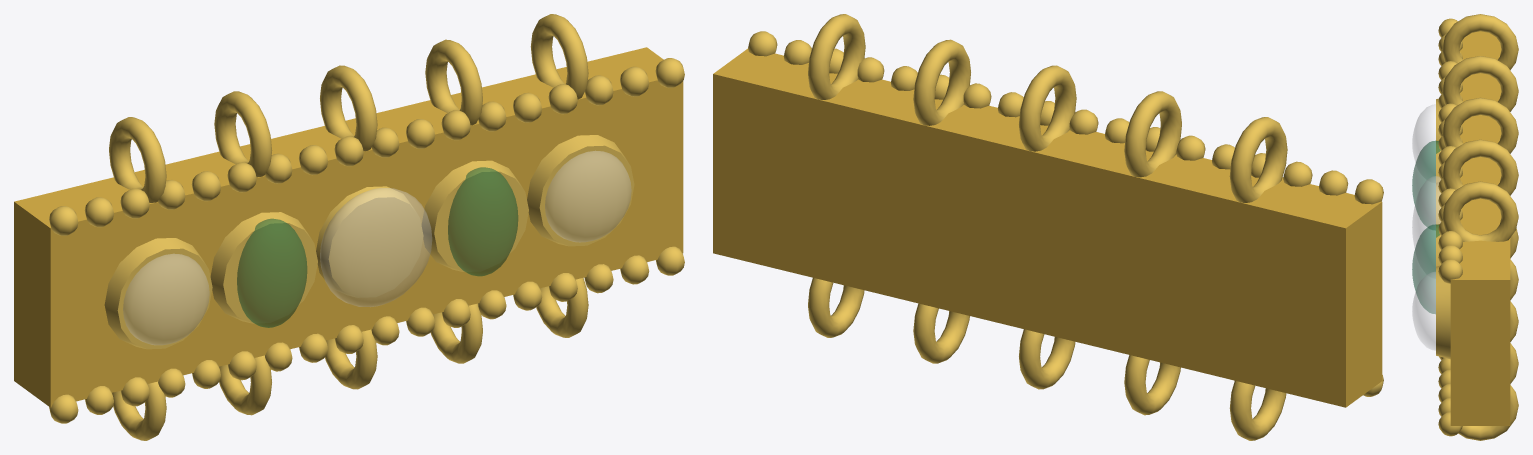
The model's file is kundan-5loop-connector.glb.
3 renders of one model, left to right at view 1: azimuth 30°, elevation 25°; view 2: azimuth 150°, elevation 25°; view 3: azimuth 270°, elevation 25°, orthographic. The views are drawn at different scales.
Parts seen in each view (by area): view 1: Connector_Chassis, KundanConnectorBar_5Loop, Polki_Center, Polki_Right_Outer, Polki_Left_Outer, Emerald_Left, Emerald_Right, Physical_Loop_Top_1, Physical_Loop_Top_2, Physical_Loop_Top_3, Physical_Loop_Top_4, Physical_Loop_Top_5 (+5 smaller); view 2: Connector_Chassis, KundanConnectorBar_5Loop, Physical_Loop_Top_1, Physical_Loop_Top_2, Physical_Loop_Top_3, Physical_Loop_Top_4, Physical_Loop_Top_5, Physical_Loop_Btm_3, Physical_Loop_Btm_2, Physical_Loop_Btm_1, Physical_Loop_Btm_4, Physical_Loop_Btm_5; view 3: Connector_Chassis, KundanConnectorBar_5Loop, Physical_Loop_Top_5, Physical_Loop_Top_4, Physical_Loop_Top_3, Physical_Loop_Top_2, Physical_Loop_Top_1, Polki_Center, Emerald_Right, Emerald_Left, Polki_Right_Outer, Polki_Left_Outer (+5 smaller).
Boxes of the visible parts, x1,y1,x2,y2 form: Connector_Chassis: (14, 47, 683, 407); KundanConnectorBar_5Loop: (49, 58, 684, 423); Polki_Center: (320, 188, 431, 306); Polki_Right_Outer: (545, 151, 631, 242); Polki_Left_Outer: (123, 254, 209, 344); Emerald_Left: (237, 218, 307, 327); Emerald_Right: (448, 167, 518, 276); Physical_Loop_Top_1: (109, 117, 166, 202); Physical_Loop_Top_2: (214, 91, 272, 177); Physical_Loop_Top_3: (320, 65, 377, 151); Physical_Loop_Top_4: (425, 39, 482, 125); Physical_Loop_Top_5: (530, 14, 588, 99); Connector_Chassis: (713, 48, 1382, 407); KundanConnectorBar_5Loop: (748, 31, 1383, 396); Physical_Loop_Top_1: (1229, 117, 1287, 202); Physical_Loop_Top_2: (1124, 91, 1181, 177); Physical_Loop_Top_3: (1019, 65, 1076, 151); Physical_Loop_Top_4: (913, 39, 970, 125); Physical_Loop_Top_5: (808, 14, 865, 99); Physical_Loop_Btm_3: (1019, 329, 1075, 389); Physical_Loop_Btm_2: (1124, 355, 1180, 415); Physical_Loop_Btm_1: (1229, 380, 1286, 440); Physical_Loop_Btm_4: (913, 303, 969, 363); Physical_Loop_Btm_5: (808, 278, 864, 337); Connector_Chassis: (1450, 31, 1510, 425); KundanConnectorBar_5Loop: (1436, 18, 1462, 436); Physical_Loop_Top_5: (1442, 181, 1518, 241); Physical_Loop_Top_4: (1442, 139, 1518, 198); Physical_Loop_Top_3: (1442, 97, 1518, 153); Physical_Loop_Top_2: (1442, 56, 1518, 115); Physical_Loop_Top_1: (1442, 14, 1518, 70); Polki_Center: (1412, 176, 1440, 273); Emerald_Right: (1412, 224, 1439, 313); Emerald_Left: (1412, 140, 1440, 229); Polki_Right_Outer: (1412, 272, 1435, 350); Polki_Left_Outer: (1412, 104, 1435, 179).
Bounding box in the file's own units: 0.24 × 0.115 × 0.0431.
